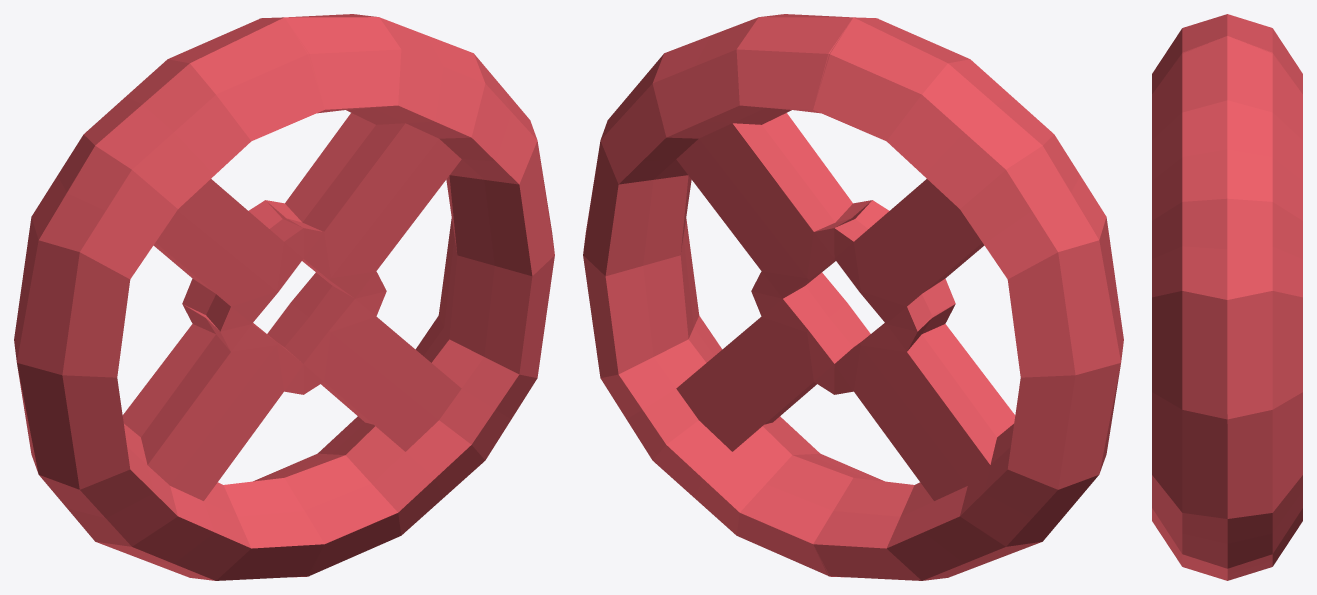
File: valve.glb
The picture shows the model from 3 angles, left to right: view 1: azimuth 30°, elevation 25°; view 2: azimuth 150°, elevation 25°; view 3: azimuth 270°, elevation 25°; orthographic projection. The views are drawn at different scales.
Parts seen in each view (by area): view 1: Valve; view 2: Valve; view 3: Valve.
Part boxes in pixels (bbox=[...]): Valve: bbox=[14, 14, 554, 580]; Valve: bbox=[583, 14, 1123, 580]; Valve: bbox=[1152, 14, 1302, 580].
Bounding box in the file's own units: 2.45 × 2.45 × 0.6388.
